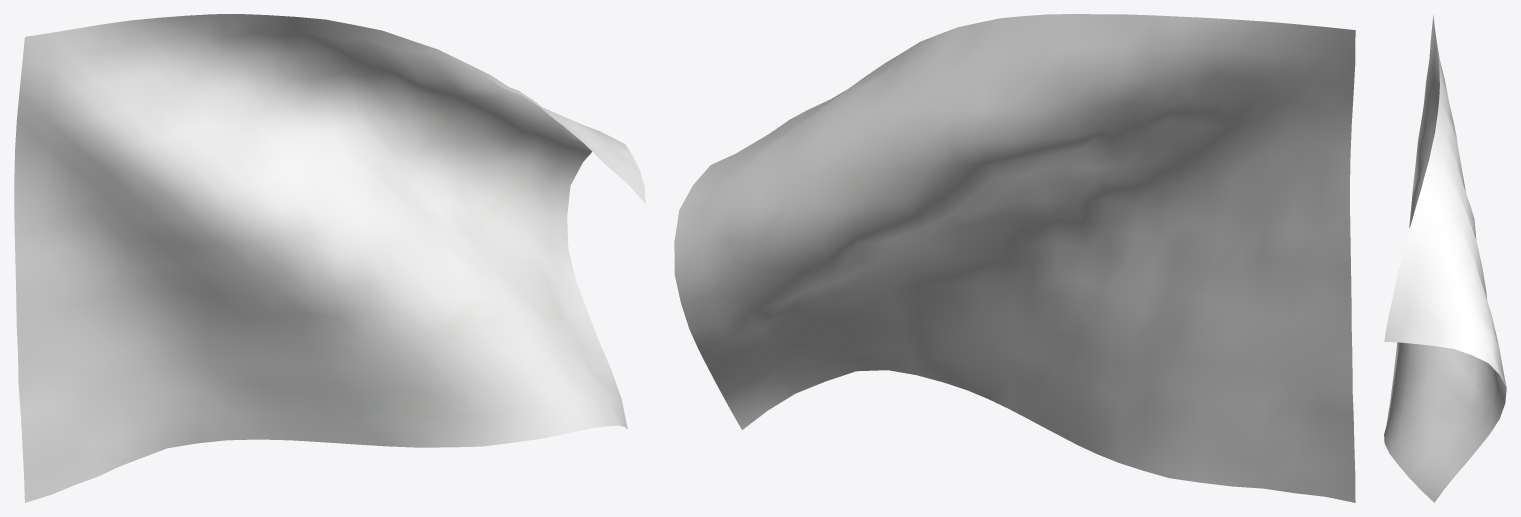
Rendered from blank_animated_flag.glb.
The picture shows the model from 3 angles, left to right: view 1: azimuth 30°, elevation 25°; view 2: azimuth 150°, elevation 25°; view 3: azimuth 270°, elevation 25°; orthographic projection. The views are drawn at different scales.
Parts seen in each view (by area): view 1: Flag ShapeKeys_2_4; view 2: Flag ShapeKeys_2_4; view 3: Flag ShapeKeys_2_4.
Boxes of the visible parts, x1,y1,x2,y2 form: Flag ShapeKeys_2_4: [14, 14, 645, 502]; Flag ShapeKeys_2_4: [674, 14, 1355, 502]; Flag ShapeKeys_2_4: [1384, 15, 1506, 502].
Size of the model in its own units: 2.8 by 2.32 by 0.8164.
Materials: 1 (1 with a texture image).
